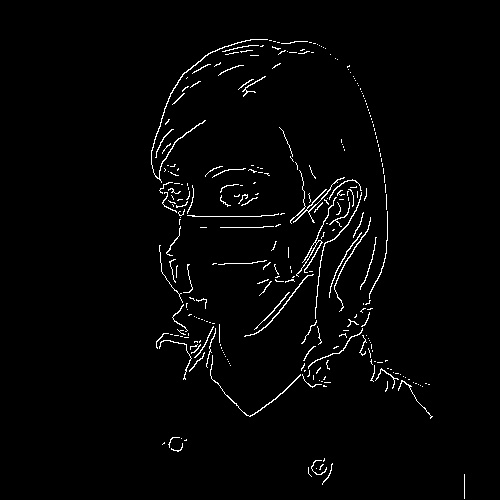mask: (158, 214, 313, 338)
